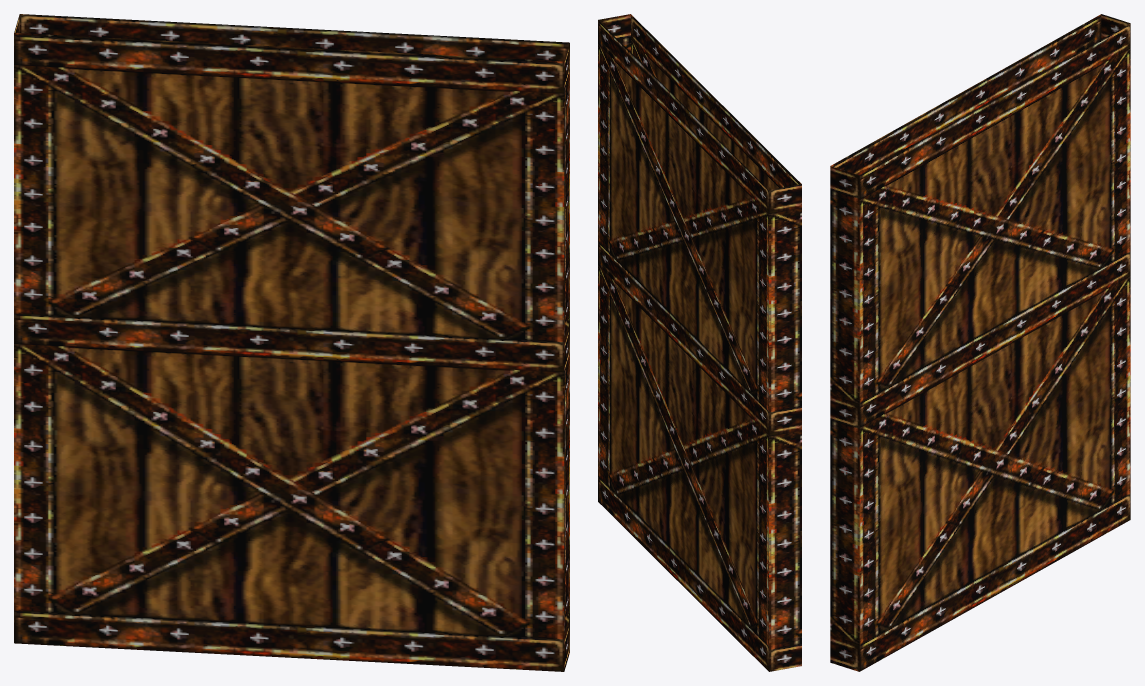
File: CINE11_GANDALFANDBILBOREUNITED_SHOT03_GATEC.fbx
The picture shows the model from 3 angles, left to right: view 1: azimuth 30°, elevation 25°; view 2: azimuth 150°, elevation 25°; view 3: azimuth 270°, elevation 25°; orthographic projection. The views are drawn at different scales.
Parts seen in each view (by area): view 1: CINE11_GANDALFANDBILBOREUNITED_SHOT03_GATEC; view 2: CINE11_GANDALFANDBILBOREUNITED_SHOT03_GATEC; view 3: CINE11_GANDALFANDBILBOREUNITED_SHOT03_GATEC.
Part boxes in pixels (bbox=[...]): CINE11_GANDALFANDBILBOREUNITED_SHOT03_GATEC: bbox=[14, 14, 569, 671]; CINE11_GANDALFANDBILBOREUNITED_SHOT03_GATEC: bbox=[598, 14, 801, 671]; CINE11_GANDALFANDBILBOREUNITED_SHOT03_GATEC: bbox=[830, 14, 1130, 671].
Size of the model in its own units: 21393 by 30670 by 16831.
Materials: 1 (1 with a texture image).
